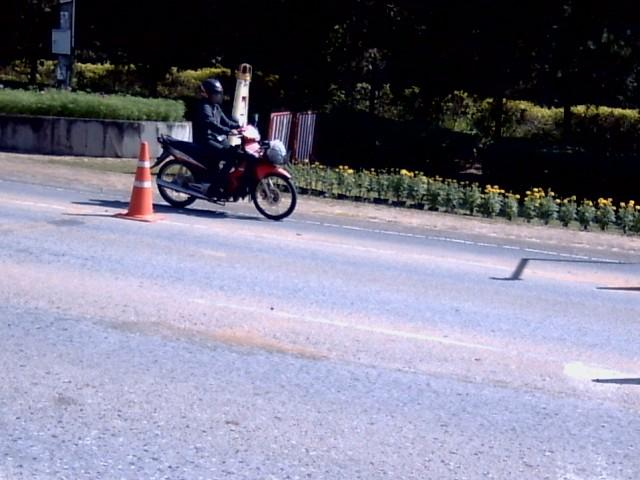helmet: (195, 79, 223, 102)
motor: (150, 125, 297, 219)
person: (193, 78, 240, 193)
